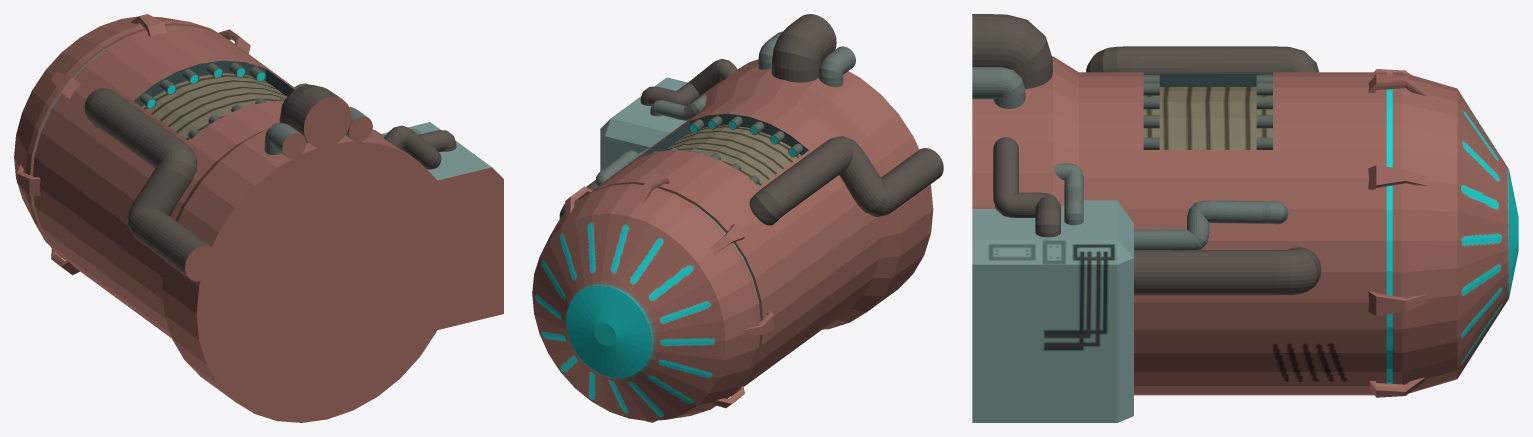
Rendered from Engine-engin.glb.
3 views of the same model, side by side, from view 1: azimuth 30°, elevation 25°; view 2: azimuth 150°, elevation 25°; view 3: azimuth 270°, elevation 25° (orthographic). The views are drawn at different scales.
Visible parts, largest first — view 1: Cylinder.001; view 2: Cylinder.001; view 3: Cylinder.001.
Boxes of the visible parts, box(x1,y1,x2,y2) form: Cylinder.001: box(14, 14, 503, 422); Cylinder.001: box(532, 14, 943, 422); Cylinder.001: box(972, 14, 1518, 422).
Bounding box in the file's own units: 13.39 × 12.9 × 16.9.
1 material, 1 textured.
